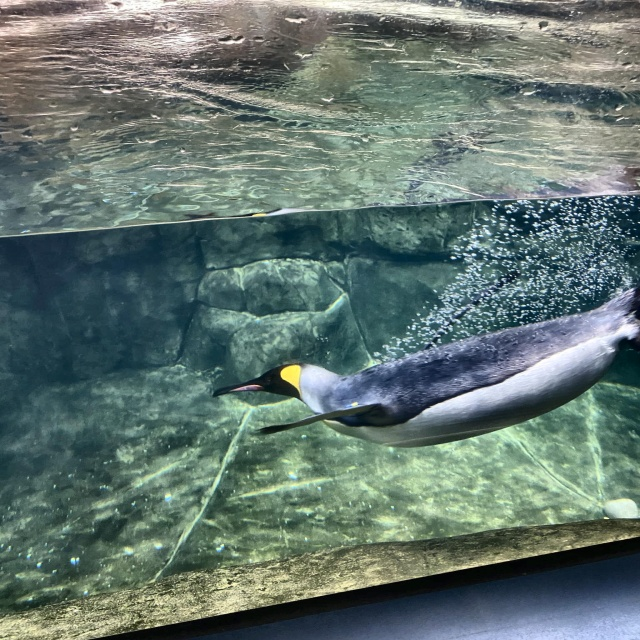penguin: (212, 288, 639, 449)
